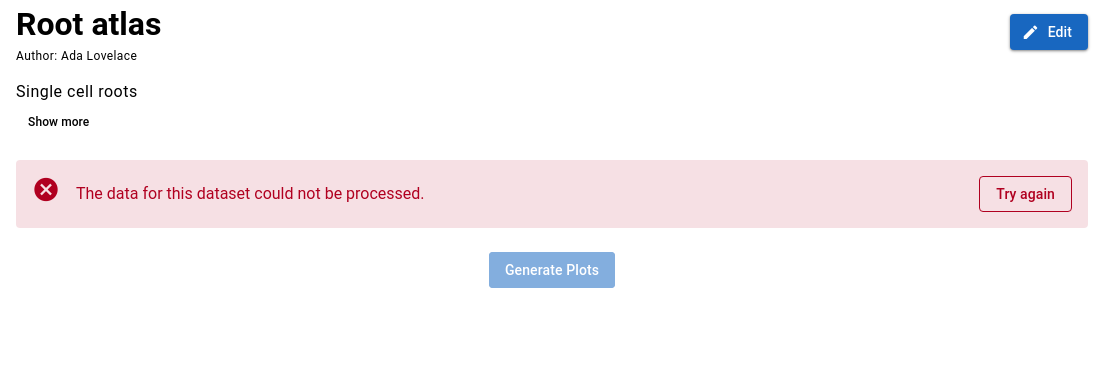
processing status › explains a failed retry (409)
Click the button "Try again": x=1026, y=194 [979,176,1072,212]
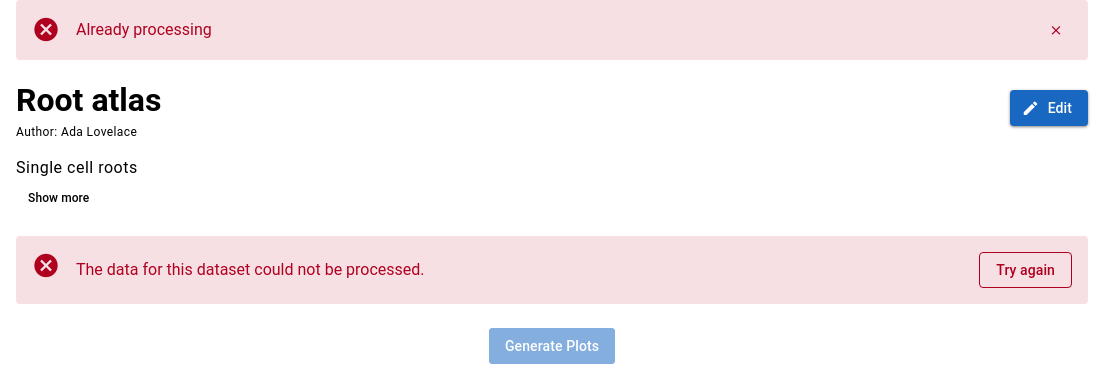
Now the text "Already processing" is shown, box [76,20,212,39]
